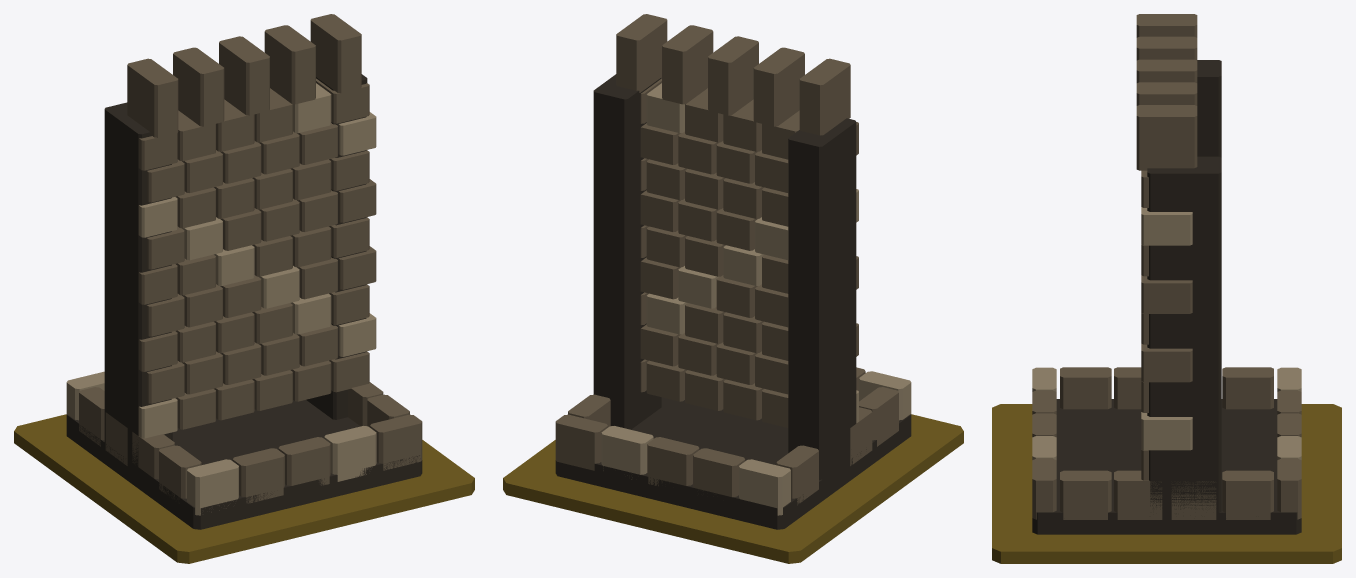
The model's file is stonewall_t6.glb.
3 views of the same model, side by side, from view 1: azimuth 30°, elevation 25°; view 2: azimuth 150°, elevation 25°; view 3: azimuth 270°, elevation 25° (orthographic).
Parts seen in each view (by area): view 1: MMR | stonewall | T06 Architecture.001, MMR | stonewall | Tier 06 Ground.001; view 2: MMR | stonewall | T06 Architecture.001, MMR | stonewall | Tier 06 Ground.001; view 3: MMR | stonewall | T06 Architecture.001, MMR | stonewall | Tier 06 Ground.001.
Boxes of the visible parts, x1,y1,x2,y2 form: MMR | stonewall | T06 Architecture.001: (66,14,422,529); MMR | stonewall | Tier 06 Ground.001: (14,414,474,563); MMR | stonewall | T06 Architecture.001: (555,14,911,529); MMR | stonewall | Tier 06 Ground.001: (503,414,963,563); MMR | stonewall | T06 Architecture.001: (1032,14,1301,534); MMR | stonewall | Tier 06 Ground.001: (992,404,1341,563).
Bounding box in the file's own units: 1.3 × 1.74 × 1.3.
Materials: 1 (1 with a texture image).
